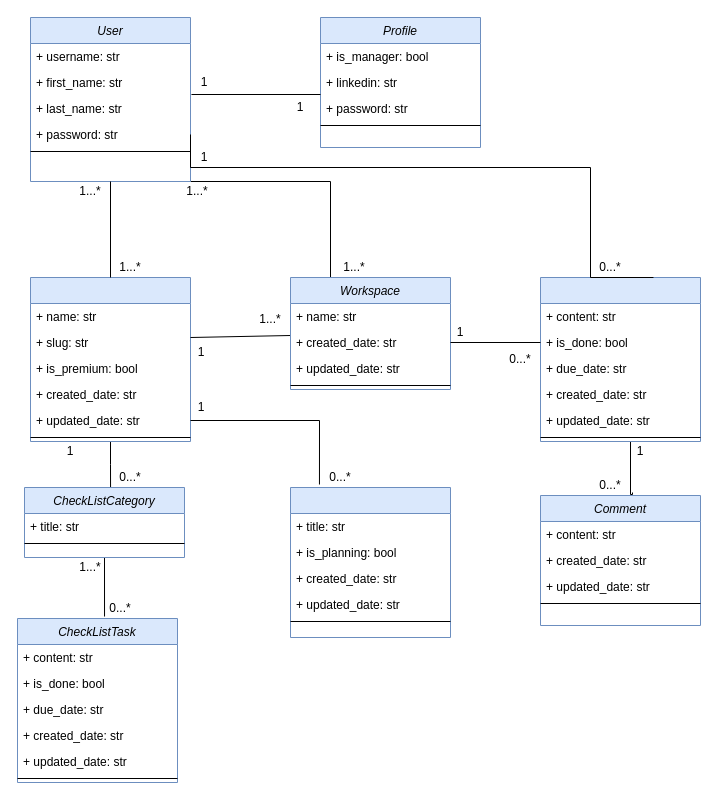
This 718x800 diagram has some shape labels left out. The shapes that lost their labels are listed below. From the top down, each one's box as (x1, y1, x2, y2) in pixels, then its label:
(30, 276, 190, 442): Property
(540, 276, 700, 442): Notebook
(290, 486, 450, 638): File
